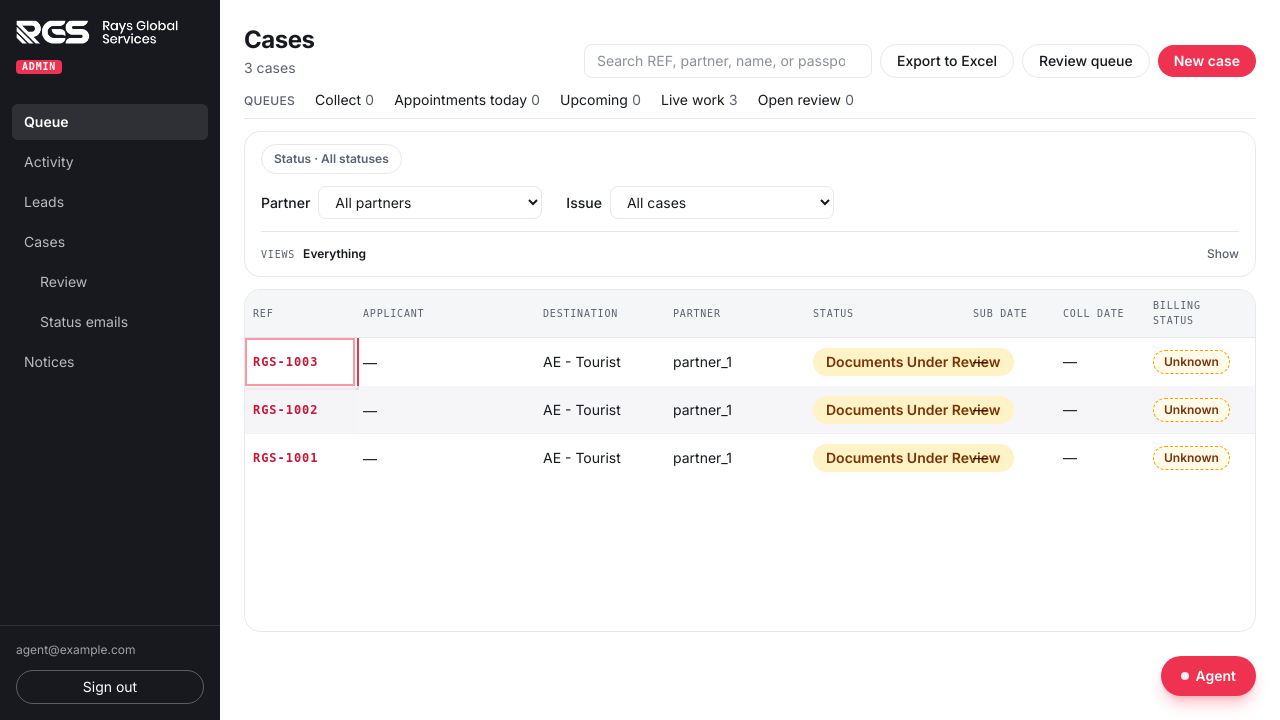
LedgerPage's search box over the real grid (fix round 2, F7) › lets a whole search term be typed instead of losing focus to the grid after one character
Check: the table with test id "ledger-scroll" is shown, box [245, 338, 1255, 482]
Click the cell "RGS-1001" at (300, 458), box [245, 434, 355, 482]
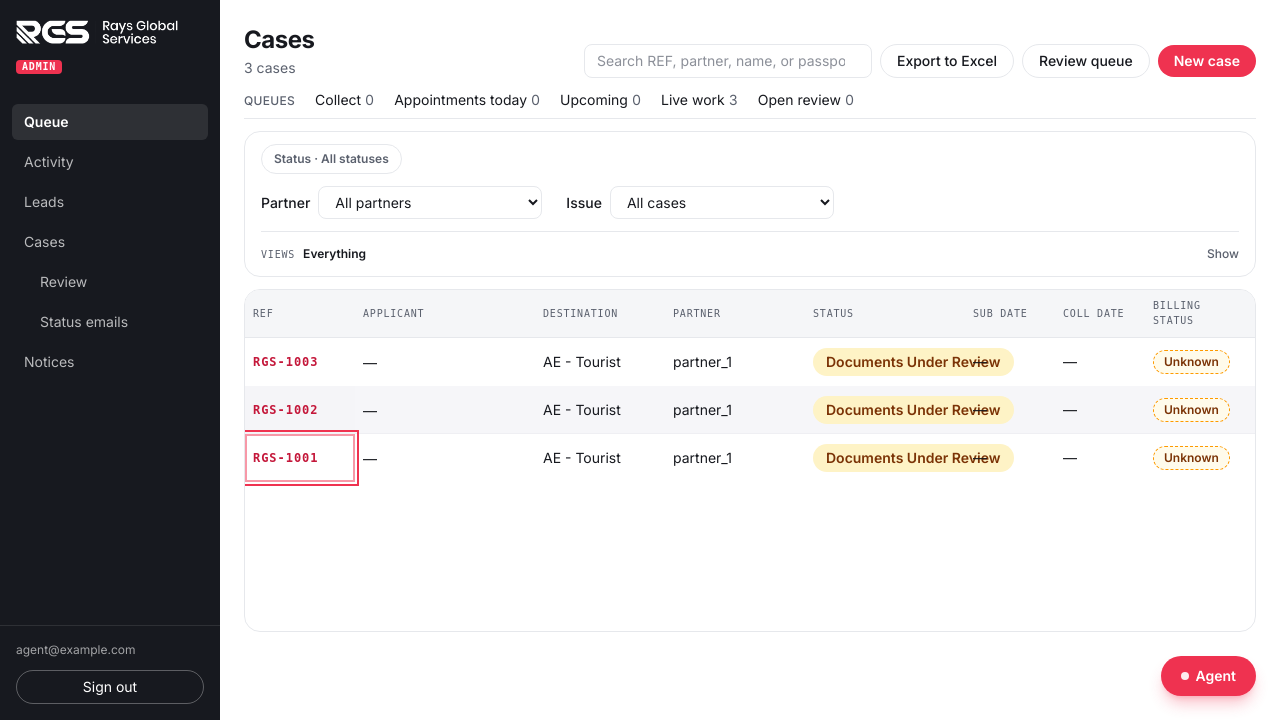
Type "RGS-1003" into the search field labelled "Search" at (728, 61), box [584, 44, 872, 78]
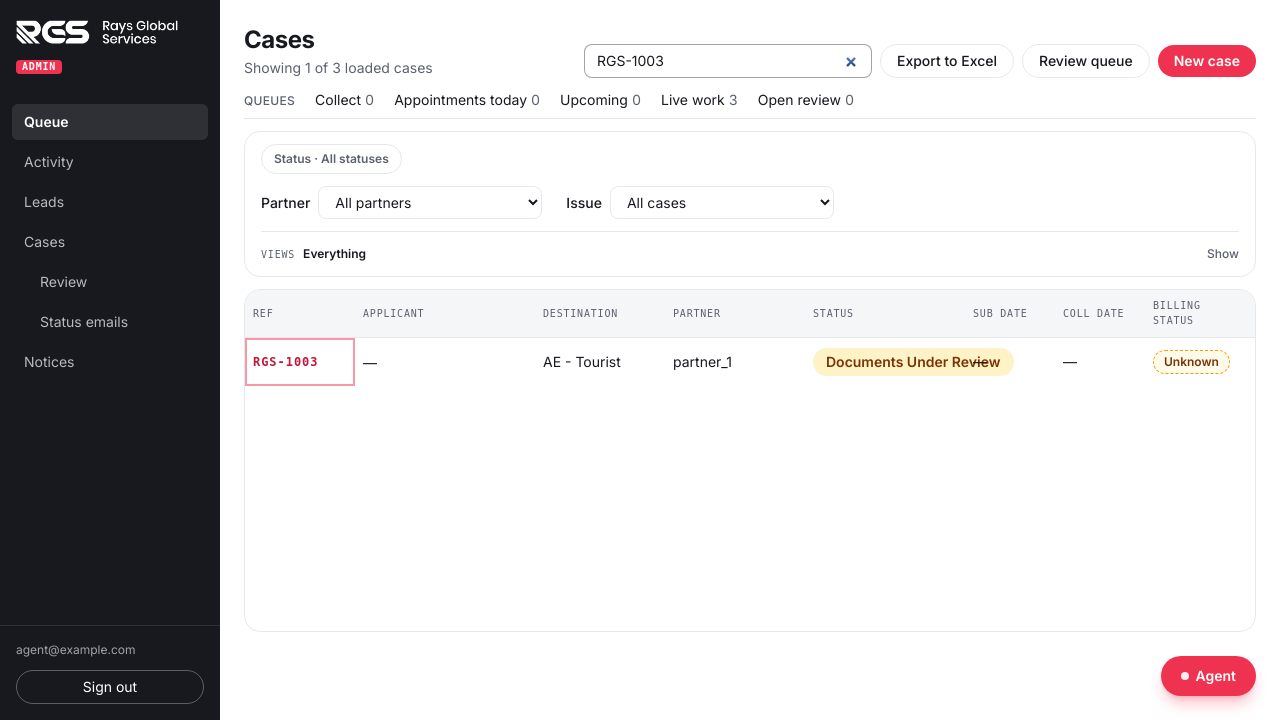
Check: the number of elements with test id "ledger-row" is 1, box [245, 338, 1255, 386]
